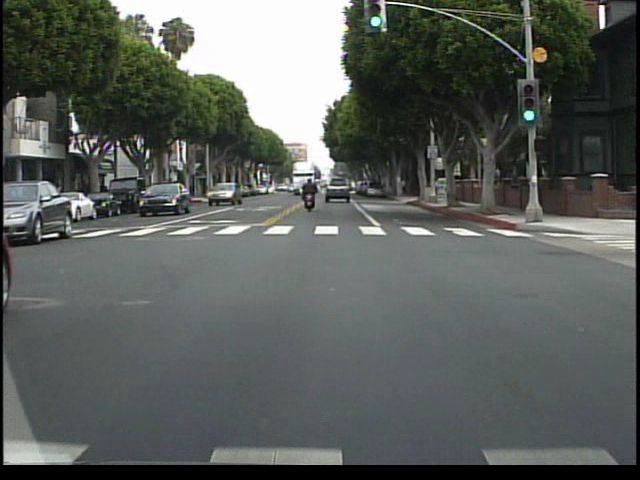person: (300, 175, 320, 215)
